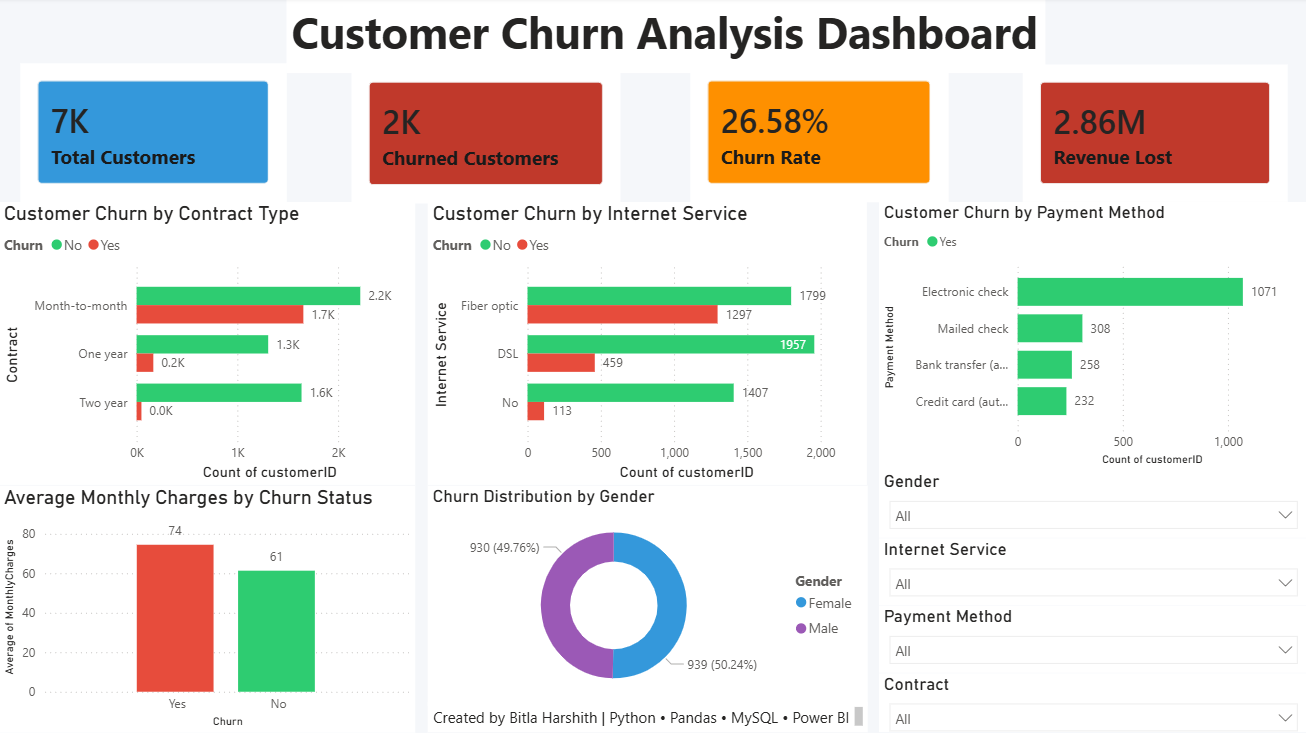

Layout of this report page (visuals, bound fields, positions):
{"tool":"powerbi","page":{"name":"Page 1","canvas":[1280,720],"ordinal":0},"visuals":[{"type":"cardVisual","fields":{"Data":["customer_churn_cleaned.Total Customers"]},"box":[20.6,64.5,260.7,135.8],"z":0},{"type":"cardVisual","fields":{"Data":["customer_churn_cleaned.Churned Customers"]},"box":[344.4,65.9,263.5,135.8],"z":1000},{"type":"cardVisual","fields":{"Data":["customer_churn_cleaned.Churn Rate"]},"box":[676.5,64.5,252.5,135.8],"z":2000},{"type":"cardVisual","fields":{"Data":["customer_churn_cleaned.Revenue Lost"]},"box":[1001.7,65.9,259.3,134.5],"z":3000},{"type":"clusteredBarChart","title":"Customer Churn by Contract Type","fields":{"Category":["customer_churn_cleaned.Contract"],"Series":["customer_churn_cleaned.Churn"],"Y":["CountNonNull(customer_churn_cleaned.customerID)"]},"box":[0,200.3,407.5,277.2],"z":4000},{"type":"clusteredBarChart","title":"Customer Churn by Internet Service","fields":{"Series":["customer_churn_cleaned.Churn"],"Y":["CountNonNull(customer_churn_cleaned.customerID)"],"Category":["customer_churn_cleaned.InternetService"]},"box":[419.9,200.3,429.5,277.2],"z":5000},{"type":"barChart","title":"Customer Churn by Payment Method","fields":{"Category":["customer_churn_cleaned.PaymentMethod"],"Series":["customer_churn_cleaned.Churn"],"Y":["CountNonNull(customer_churn_cleaned.customerID)"]},"box":[860.9,200.5,419.4,262.9],"z":6000},{"type":"clusteredColumnChart","title":"Average Monthly Charges by Churn Status","fields":{"Category":["customer_churn_cleaned.Churn"],"Y":["Avg(customer_churn_cleaned.MonthlyCharges)"]},"box":[0,477.5,407.5,241.5],"z":7000},{"type":"donutChart","title":"Churn Distribution by Gender","fields":{"Category":["customer_churn_cleaned.gender"],"Y":["CountNonNull(customer_churn_cleaned.customerID)"]},"box":[419.4,478.1,430.4,215.2],"z":8000},{"type":"slicer","title":"Gender","fields":{"Values":["customer_churn_cleaned.Gender"]},"box":[860.4,463.8,419.9,65.9],"z":9000},{"type":"slicer","title":"Contract","fields":{"Values":["customer_churn_cleaned.Contract"]},"box":[860.4,661.4,419.9,57.6],"z":10000},{"type":"slicer","title":"Internet Service","fields":{"Values":["customer_churn_cleaned.InternetService"]},"box":[860.4,529.7,419.9,65.9],"z":11000},{"type":"slicer","title":"Payment Method","fields":{"Values":["customer_churn_cleaned.PaymentMethod"]},"box":[860.4,595.5,419.9,65.9],"z":12000},{"type":"textbox","box":[281.3,0,742.4,74.1],"z":13000},{"type":"textbox","box":[419.4,689.7,430.4,29.3],"z":13001}]}

Visuals, with their boxes in screenshot pixels (x1, y1, x2, y2), scaled from the page's 1280x720 canvas onto the 1306x733 screenshot:
cardVisual - customer_churn_cleaned.Total Customers: left=21, top=66, right=287, bottom=204
cardVisual - customer_churn_cleaned.Churned Customers: left=351, top=67, right=620, bottom=205
cardVisual - customer_churn_cleaned.Churn Rate: left=690, top=66, right=948, bottom=204
cardVisual - customer_churn_cleaned.Revenue Lost: left=1022, top=67, right=1287, bottom=204
"Customer Churn by Contract Type" clusteredBarChart: left=0, top=204, right=416, bottom=486
"Customer Churn by Internet Service" clusteredBarChart: left=428, top=204, right=867, bottom=486
"Customer Churn by Payment Method" barChart: left=878, top=204, right=1305, bottom=472
"Average Monthly Charges by Churn Status" clusteredColumnChart: left=0, top=486, right=416, bottom=732
"Churn Distribution by Gender" donutChart: left=428, top=487, right=867, bottom=706
"Gender" slicer: left=878, top=472, right=1305, bottom=539
"Contract" slicer: left=878, top=673, right=1305, bottom=732
"Internet Service" slicer: left=878, top=539, right=1305, bottom=606
"Payment Method" slicer: left=878, top=606, right=1305, bottom=673
textbox: left=287, top=0, right=1044, bottom=75
textbox: left=428, top=702, right=867, bottom=732
